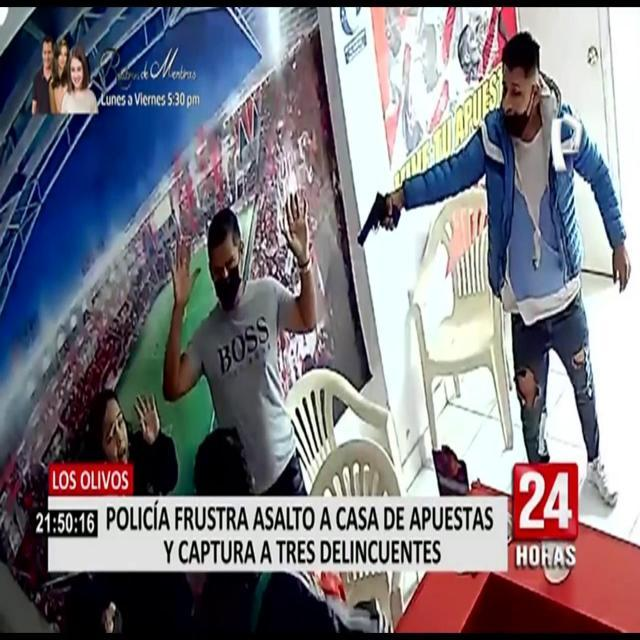Gun: (352, 169, 400, 264)
